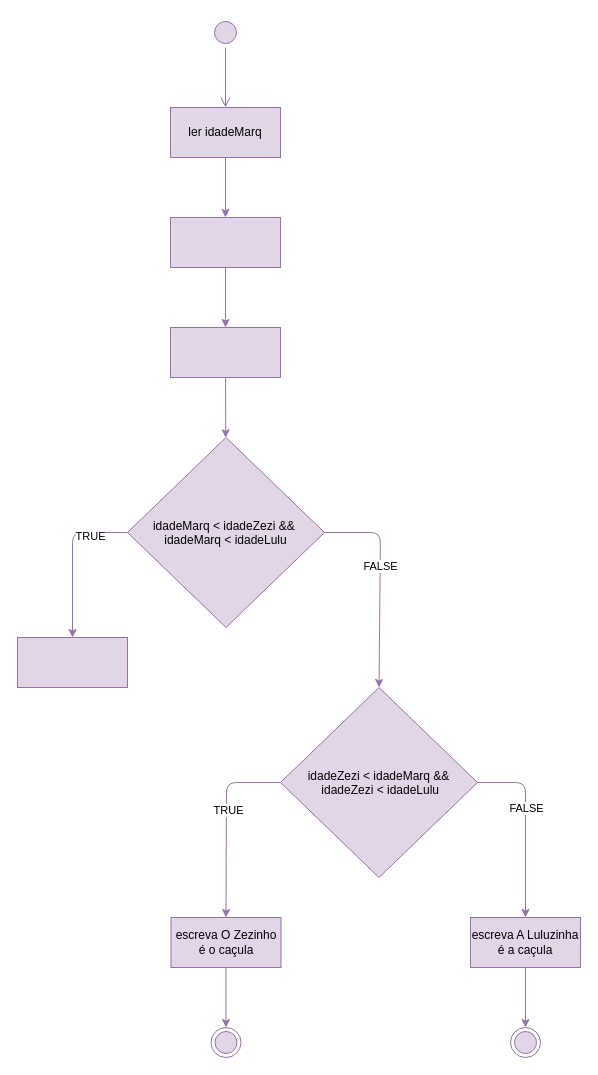
Image size: 598x1075. Some labels were removed from this diagram. Each missing label, with the centre of its shape:
"escreva O Marquinhos é o caçula" belongs at point 72,662.
"ler idadeLulu" belongs at point 225,352.
"ler idadeZezi" belongs at point 225,242.
